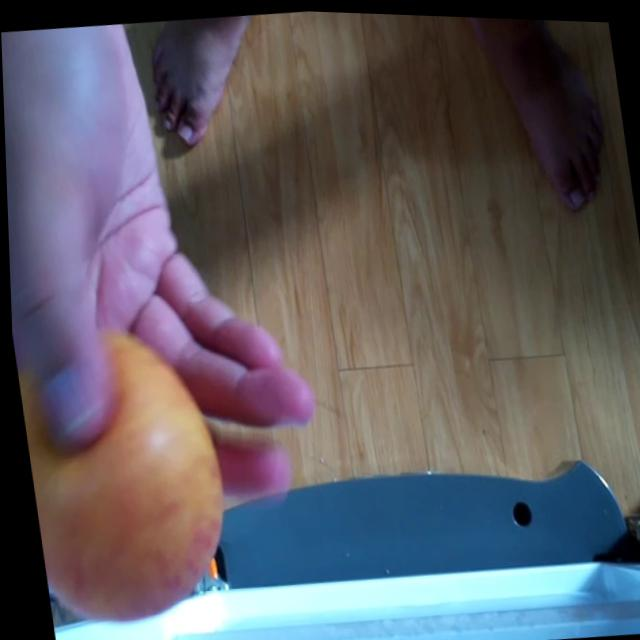apple: (9, 312, 240, 637)
